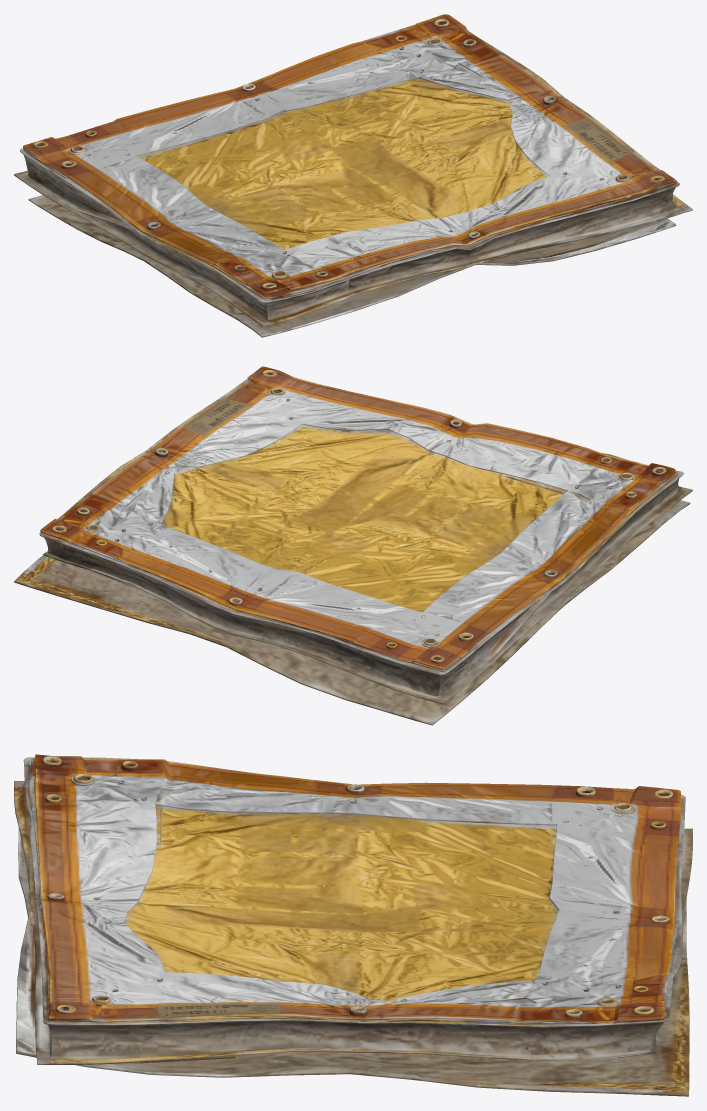
The model's file is sat1_8.fbx.
The picture shows the model from 3 angles, top to bottom: view 1: azimuth 30°, elevation 25°; view 2: azimuth 150°, elevation 25°; view 3: azimuth 270°, elevation 25°; orthographic projection. The views are drawn at different scales.
Visible parts, largest first — view 1: tripo_node_ec7fbf2d; view 2: tripo_node_ec7fbf2d; view 3: tripo_node_ec7fbf2d.
Part boxes in pixels (x1=…): tripo_node_ec7fbf2d: x1=14, y1=14, x2=692, y2=337; tripo_node_ec7fbf2d: x1=14, y1=366, x2=692, y2=725; tripo_node_ec7fbf2d: x1=14, y1=754, x2=692, y2=1096.
Bounding box in the file's own units: 0.9995 × 0.2046 × 0.9839.
